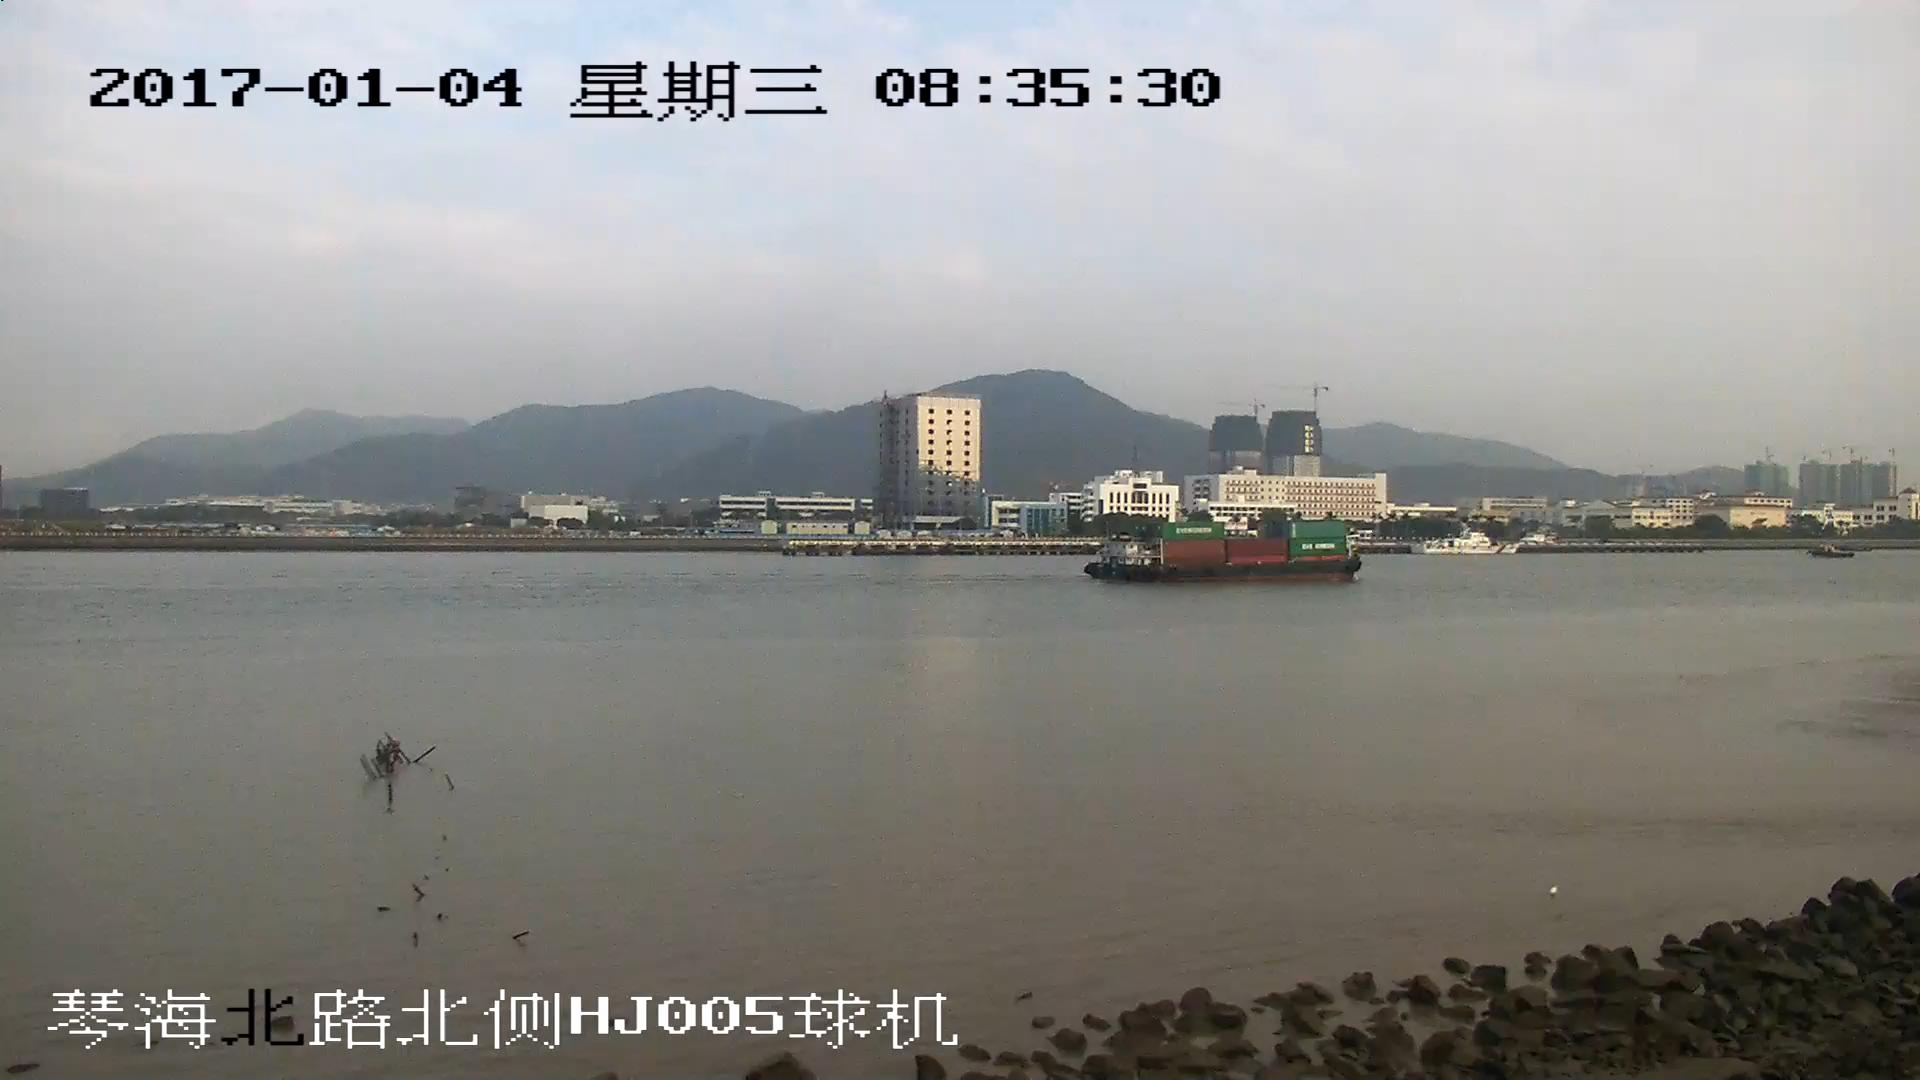container ship: (1087, 517, 1359, 580)
